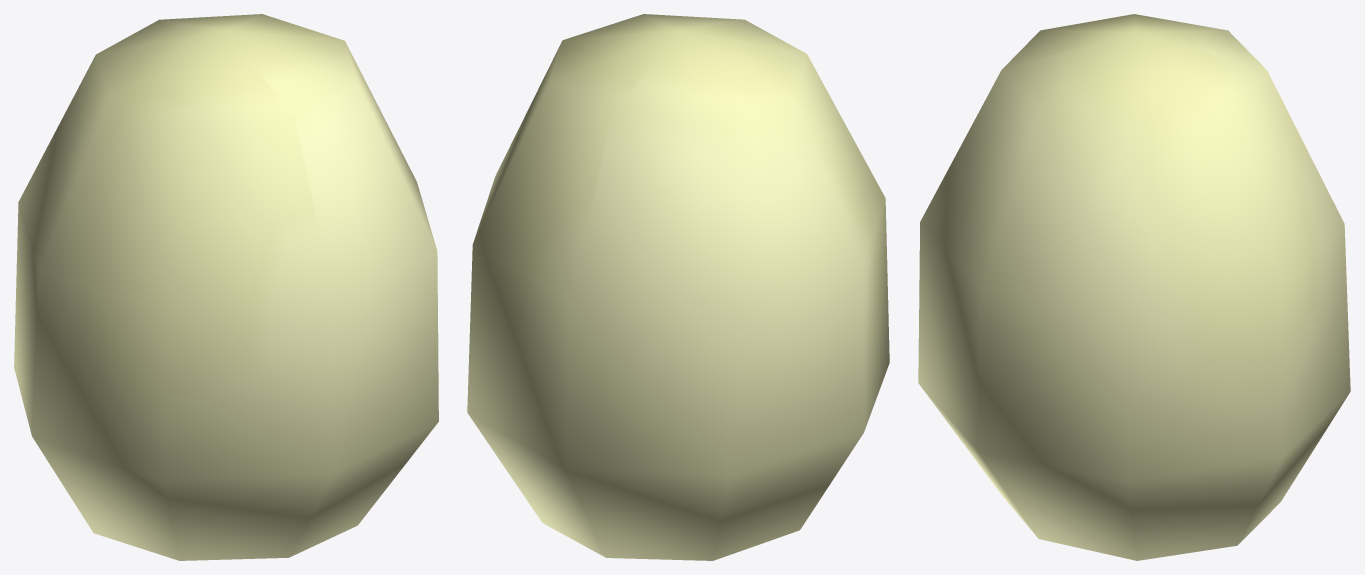
File: SM_PROP_egg_interior_01.fbx
3 renders of one model, left to right at view 1: azimuth 30°, elevation 25°; view 2: azimuth 150°, elevation 25°; view 3: azimuth 270°, elevation 25°, orthographic. The views are drawn at different scales.
Visible parts, largest first — view 1: SM_PROP_egg_interior_01; view 2: SM_PROP_egg_interior_01; view 3: SM_PROP_egg_interior_01.
Boxes of the visible parts, x1,y1,x2,y2 form: SM_PROP_egg_interior_01: (14,14,438,560); SM_PROP_egg_interior_01: (467,14,889,560); SM_PROP_egg_interior_01: (918,14,1350,560).
Size of the model in its own units: 9.87 by 12.37 by 9.87.
